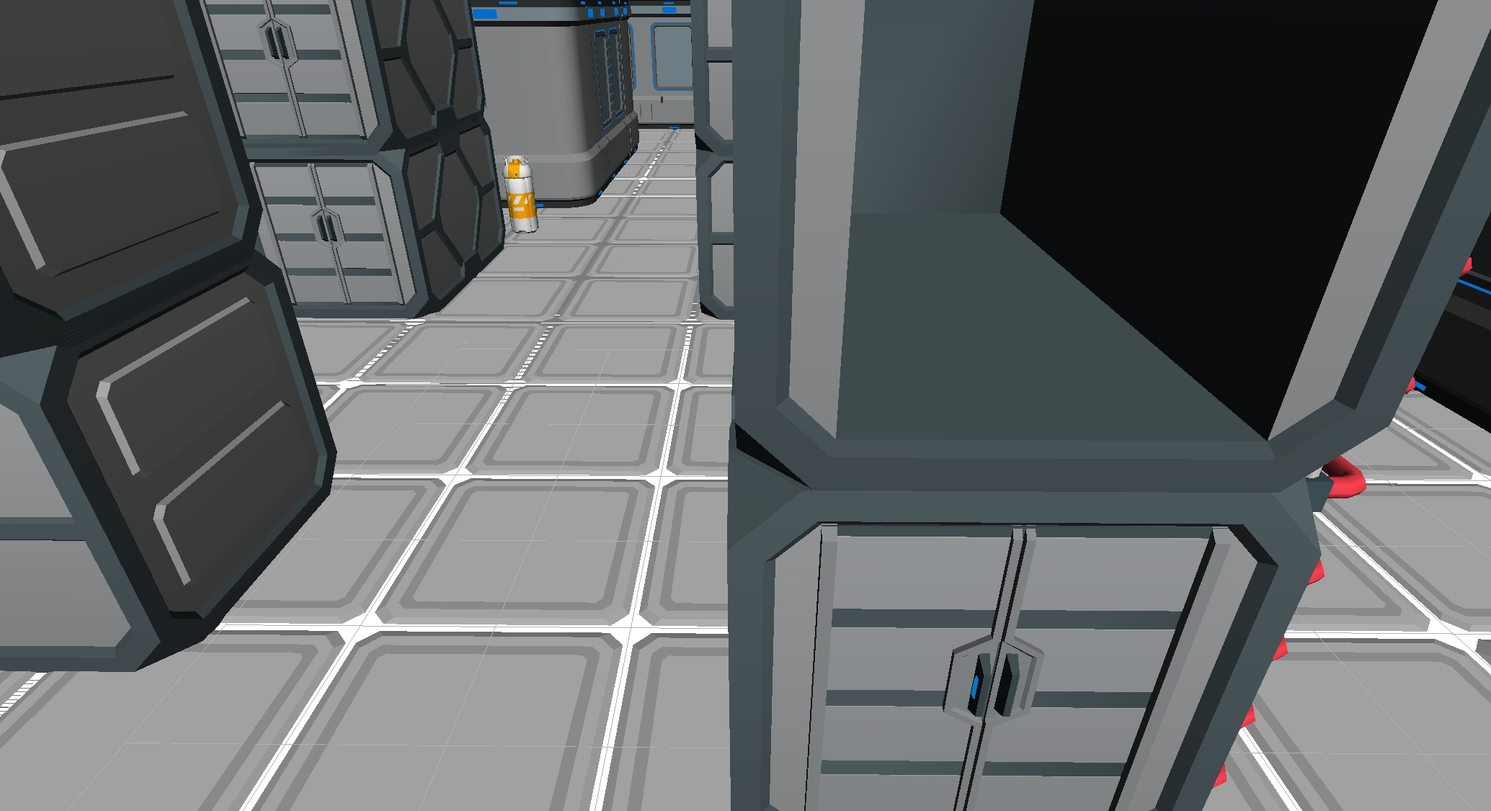yellow_barrel: (504, 155, 538, 233)
